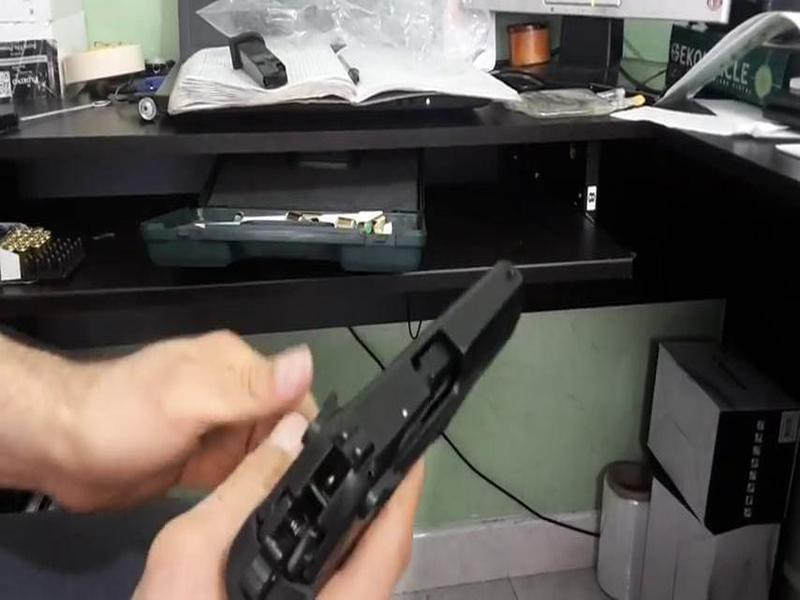Pistola: (227, 218, 537, 583)
